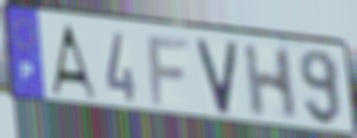4: (104, 31, 137, 103)
9: (298, 47, 343, 130)
A: (47, 23, 99, 102)
F: (145, 35, 192, 109)
H: (241, 43, 299, 123)
V: (193, 36, 241, 118)
